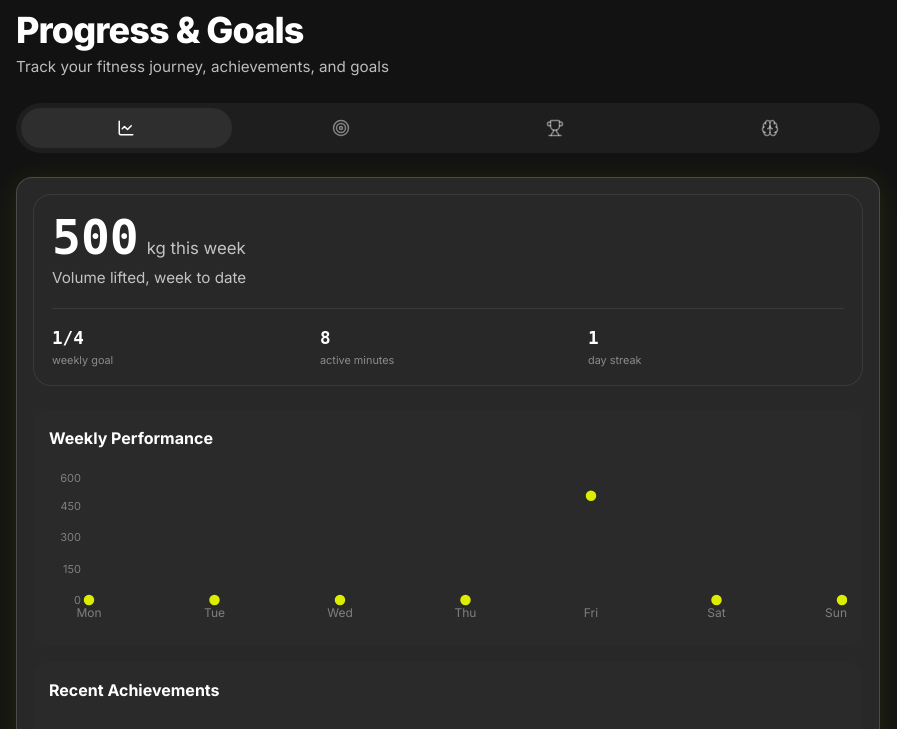
Test: MobileProgress › AI dashboard: statistics use real figures, not the web version's fixed samples
The image size is (897, 729).
Click the tab named "AI Dashboard" at (770, 128), box left=664, top=108, right=875, bottom=148
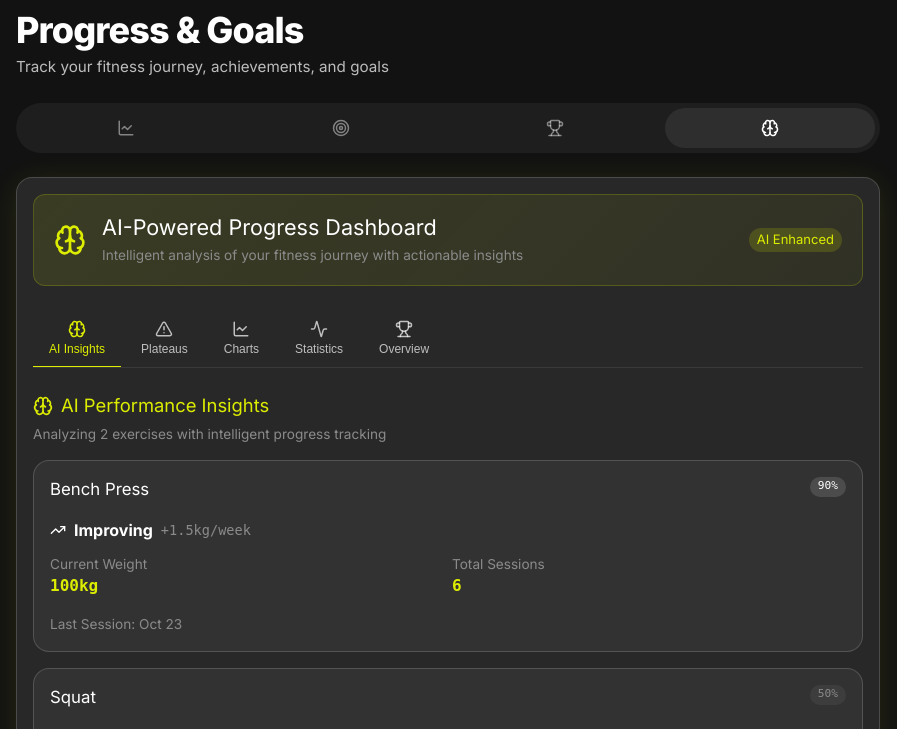
Click the tab "Statistics" at (319, 339), box left=279, top=310, right=359, bottom=368
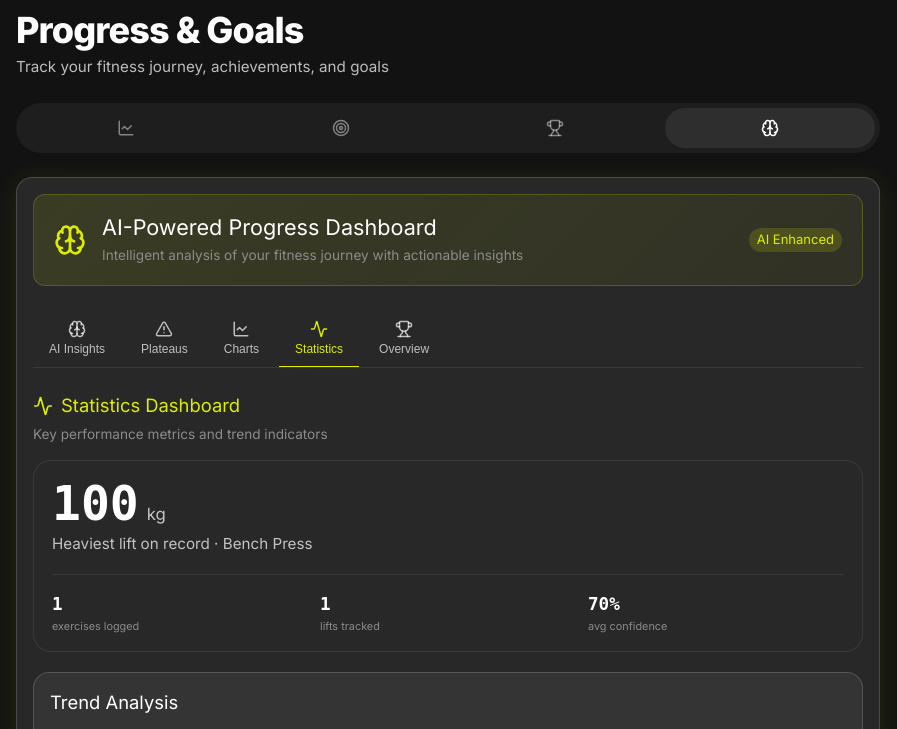
Expected: the text "Heaviest lift on record · Bench Press" is shown, left=52, top=534, right=312, bottom=553
